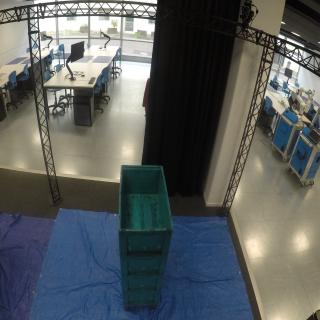BoxB4: (117, 163, 173, 255), (118, 248, 172, 278), (120, 275, 168, 293), (122, 292, 163, 310)
